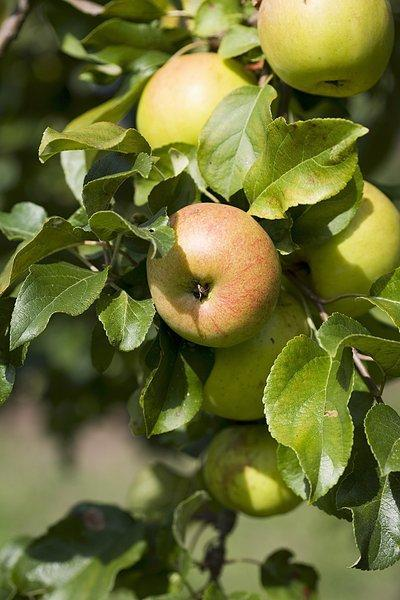apple: (147, 202, 281, 348), (195, 289, 306, 421), (257, 1, 394, 93), (303, 179, 400, 301), (138, 48, 249, 151), (202, 424, 299, 519)
